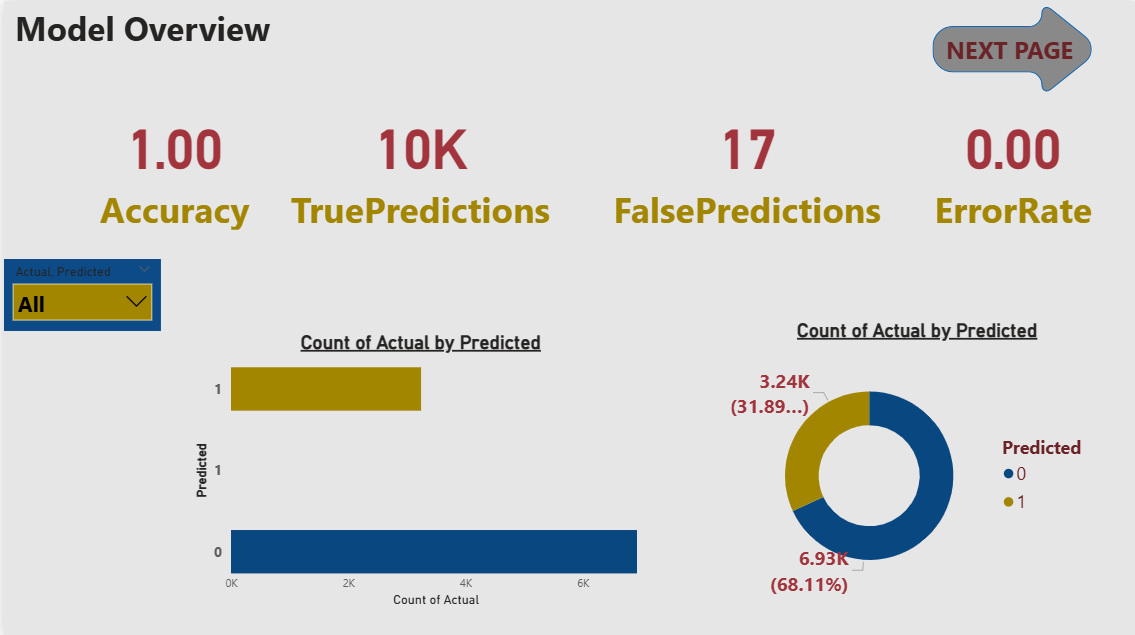

Layout of this report page (visuals, bound fields, positions):
{"tool":"powerbi","page":{"name":"Model Overview","canvas":[1280,720],"ordinal":0},"visuals":[{"type":"card","fields":{"Values":["model_results.Accuracy"]},"box":[90.7,107.7,202.2,155],"z":0},{"type":"barChart","fields":{"Y":["CountNonNull(model_results.Actual)"],"Category":["model_results.Predicted"]},"box":[209.8,372.3,521.6,315.6],"z":1000},{"type":"donutChart","fields":{"Y":["CountNonNull(model_results.Actual)"],"Category":["model_results.Predicted"]},"box":[822.1,359.1,419.5,328.8],"z":2000},{"type":"textbox","box":[0,0,313.3,75.6],"z":3000},{"type":"slicer","fields":{"Values":["model_results.Actual","model_results.Predicted"]},"box":[0,291,177.6,81.3],"z":4000},{"type":"card","fields":{"Values":["Table.ErrorRate"]},"box":[1039.4,107.7,202.2,155],"z":5000},{"type":"card","fields":{"Values":["Table.TruePredictions"]},"box":[313.7,107.7,313.7,155],"z":6000},{"type":"card","fields":{"Values":["Table.FalsePredictions"]},"box":[678.4,107.7,323.2,155],"z":7000},{"type":"shape","box":[1048.9,0,191.1,108.9],"z":8000}]}

Visuals, with their boxes in screenshot pixels (x1, y1, x2, y2), scaled from the page's 1280x720 canvas onto the 1135x635 screenshot:
card - model_results.Accuracy: l=80, t=95, r=260, b=232
barChart - CountNonNull(model_results.Actual) x model_results.Predicted: l=186, t=328, r=649, b=607
donutChart - CountNonNull(model_results.Actual) x model_results.Predicted: l=729, t=317, r=1101, b=607
textbox: l=0, t=0, r=278, b=67
slicer - model_results.Actual x model_results.Predicted: l=0, t=257, r=157, b=328
card - Table.ErrorRate: l=922, t=95, r=1101, b=232
card - Table.TruePredictions: l=278, t=95, r=556, b=232
card - Table.FalsePredictions: l=602, t=95, r=888, b=232
shape: l=930, t=0, r=1100, b=96
